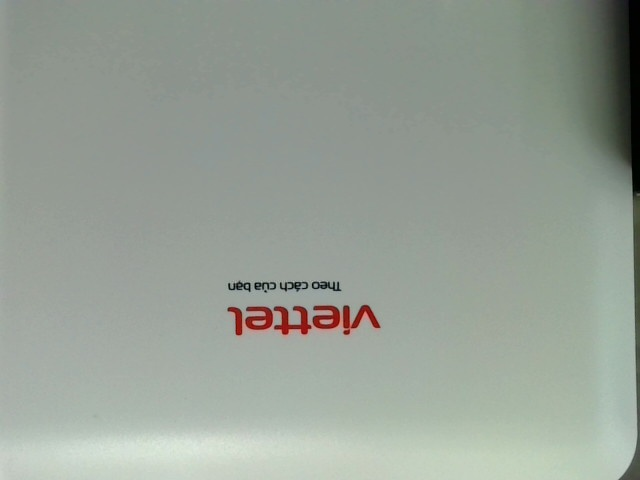AY_Viettel: (219, 275, 385, 338)
